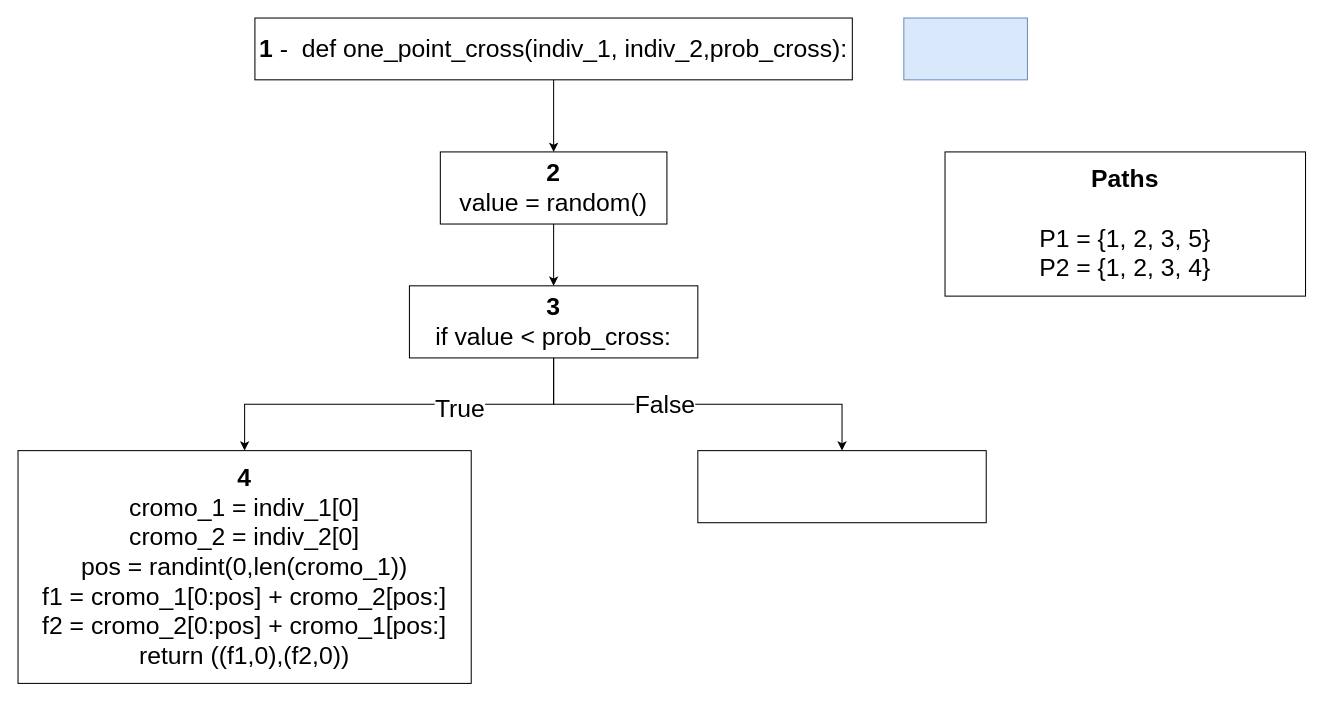
Some shapes in this 1324 by 701 pixel diagram are drawn without their labels. Each missing label, with the centre of its shape:
5 return (indiv_1,indiv_2): point 841,486
Vg = 2: point 965,48
